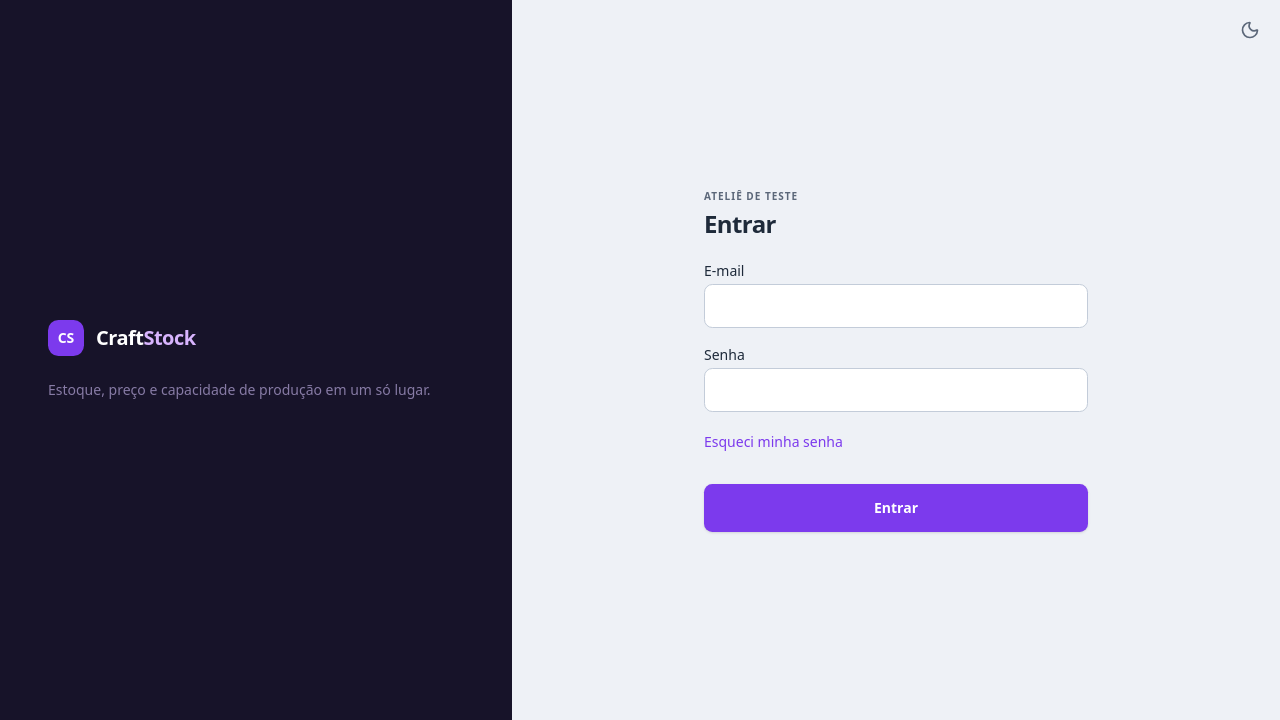
Test case: opening the application › remembers the page the visitor asked for, and returns there after signing in
Expected: the heading "Entrar" is shown, [704,206,776,240]
Step 1. Type "marina@exemplo.com.br" into the field labelled "E-mail" → (896, 306), box [704,284,1088,328]
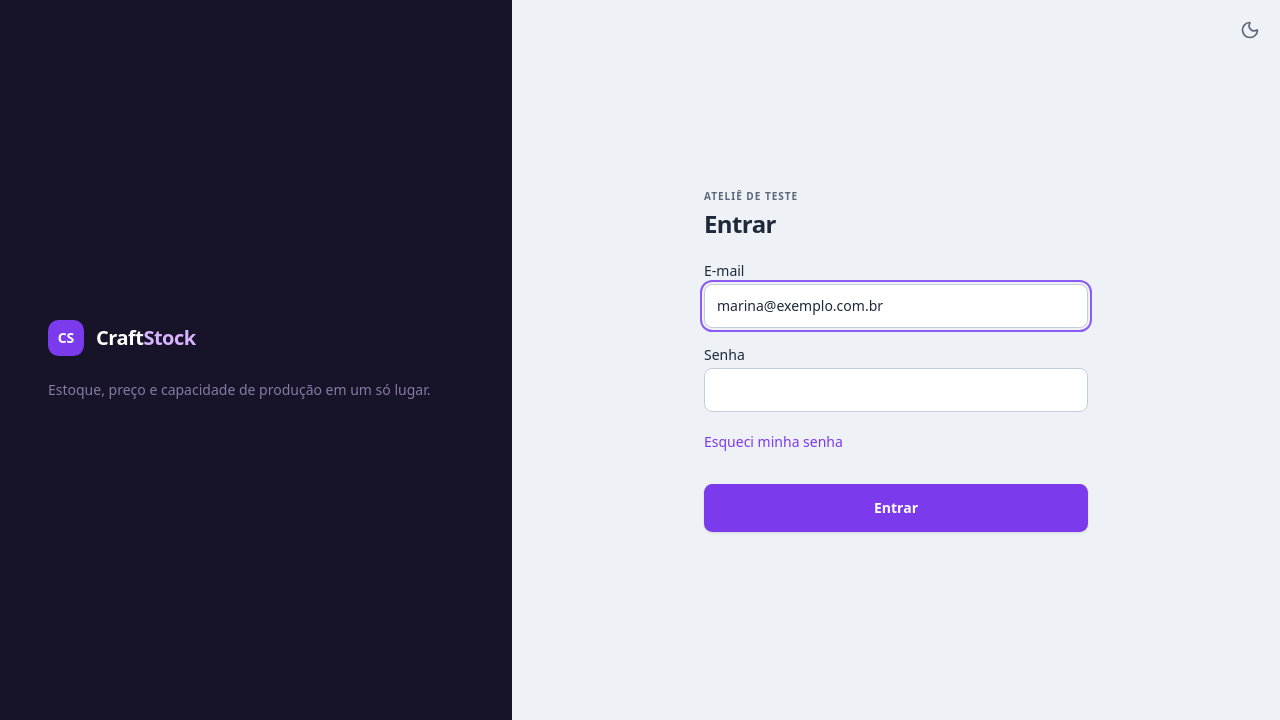
Step 2. Type "senha-correta" into the password field labelled "Senha" → (896, 390), box [704,368,1088,412]
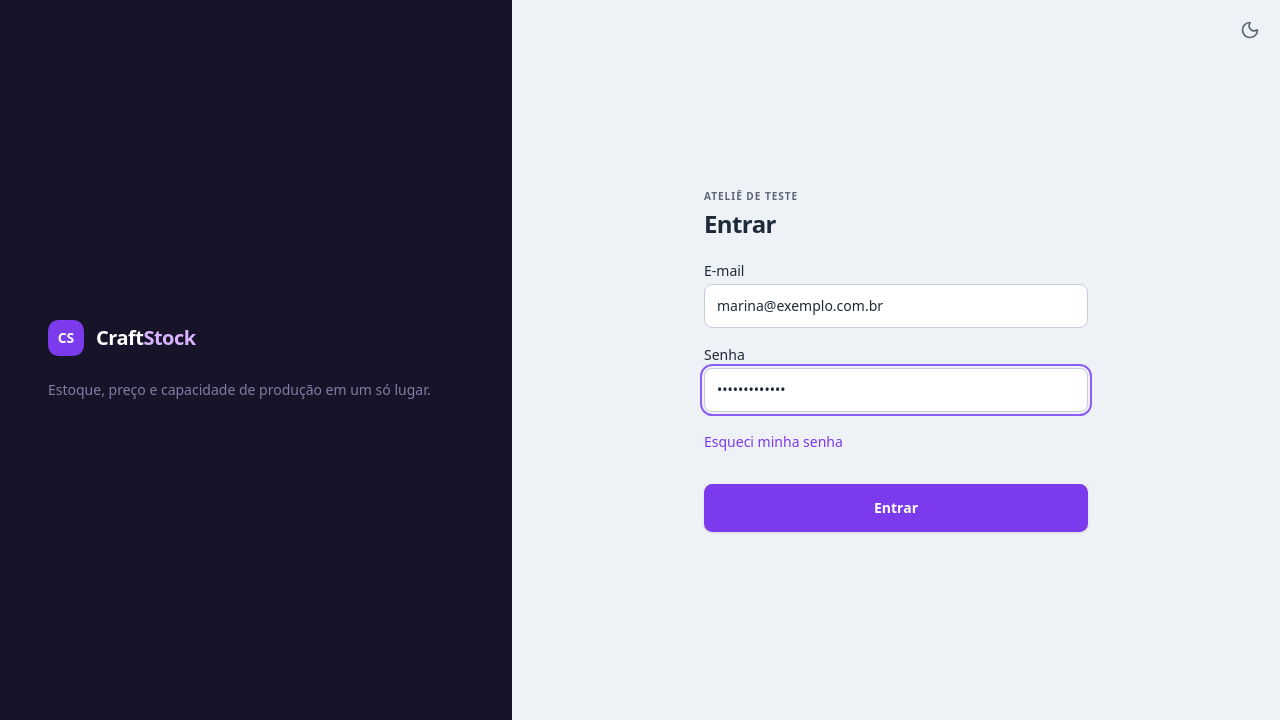
Step 3. Click the button "Entrar" → (896, 508), box [704,484,1088,532]
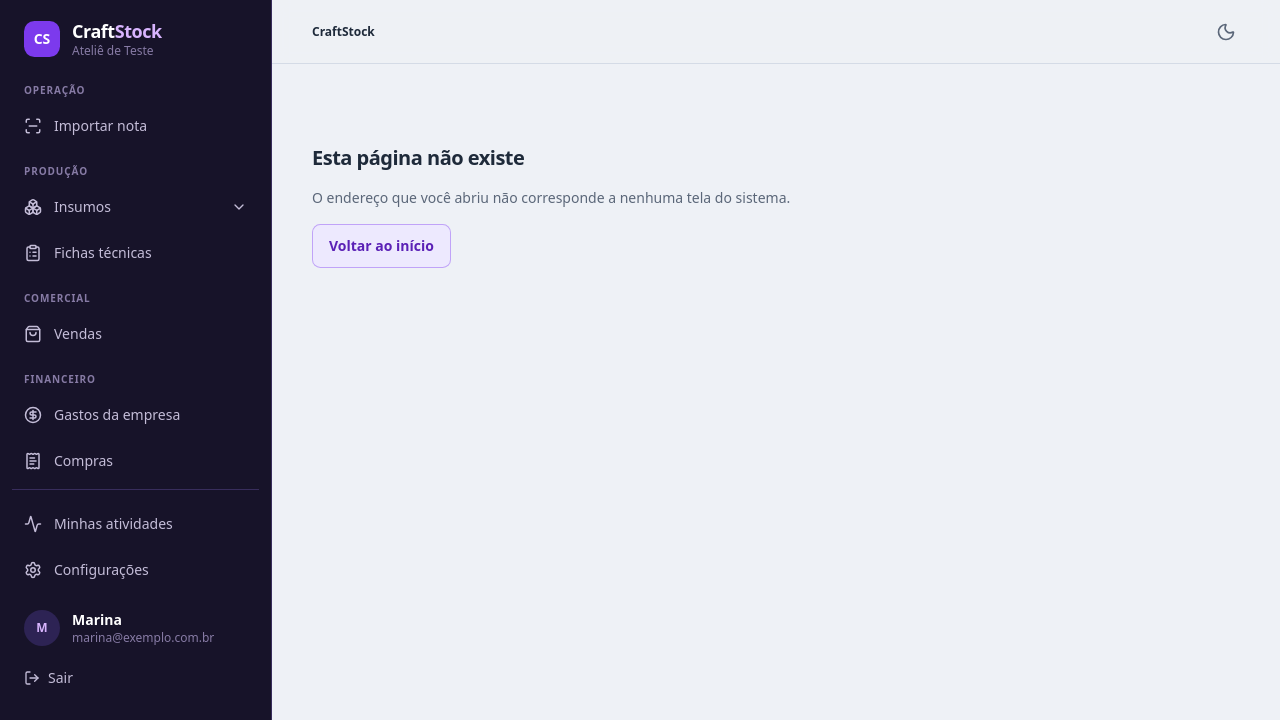
Result: the heading "Esta página não existe" is shown at [312,144,524,172]
